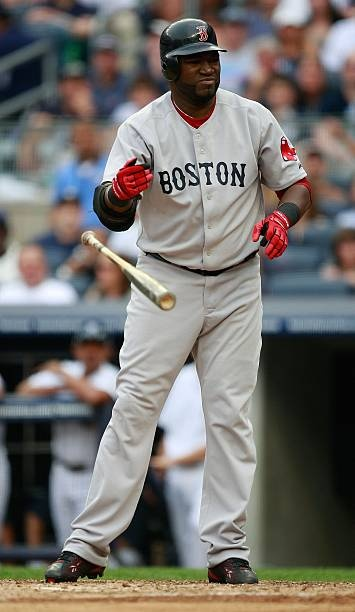bita: (76, 228, 178, 311)
